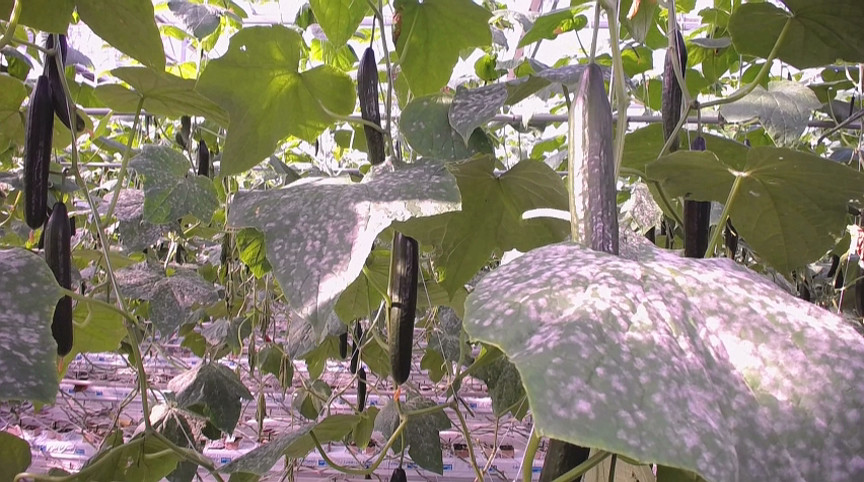cucumber: (569, 65, 621, 256), (391, 231, 421, 387), (24, 78, 53, 229), (46, 203, 72, 357), (46, 31, 83, 131), (358, 48, 388, 167), (662, 32, 686, 152), (685, 200, 713, 259), (196, 141, 210, 176), (356, 369, 366, 412)
